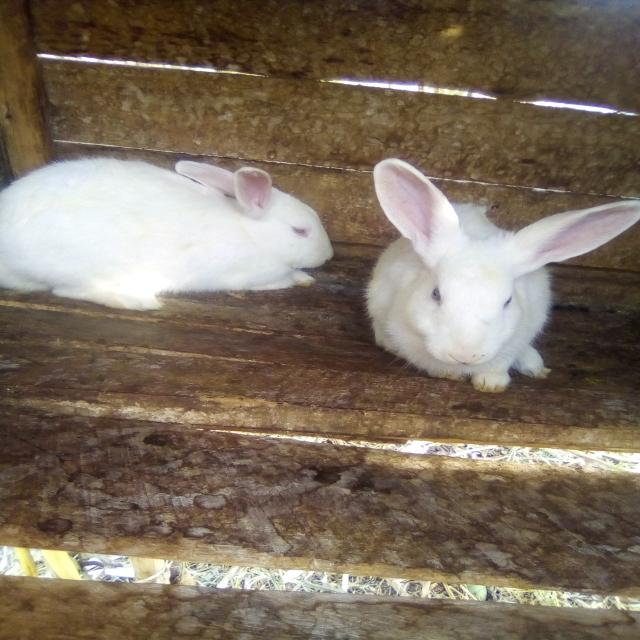rabbit: (17, 120, 347, 378)
